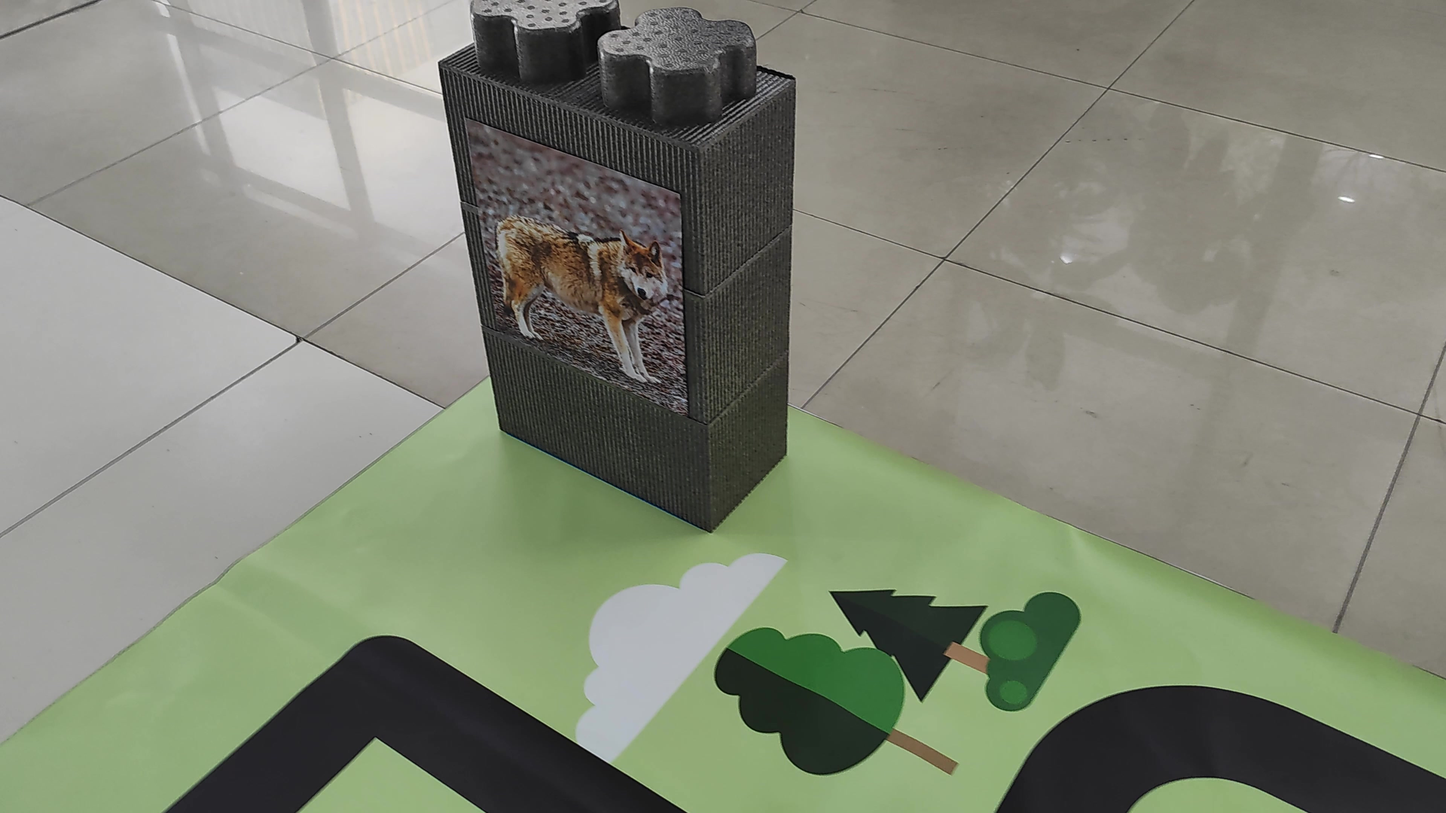wolf: (480, 181, 685, 408)
